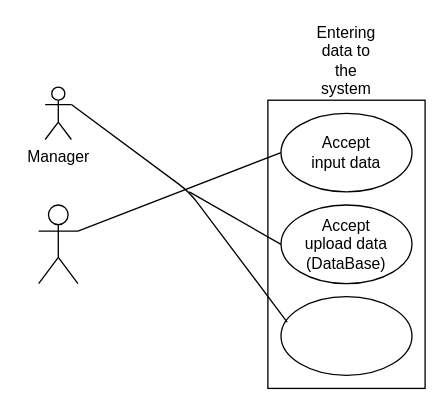
This 448x411 diagram has some shape labels left out. The shapes that lost their labels are listed below. From the top down, each one's centre as x and y in pixels, then its label:
At (57,244): "Personnel".
At (346,335): "Store data".
